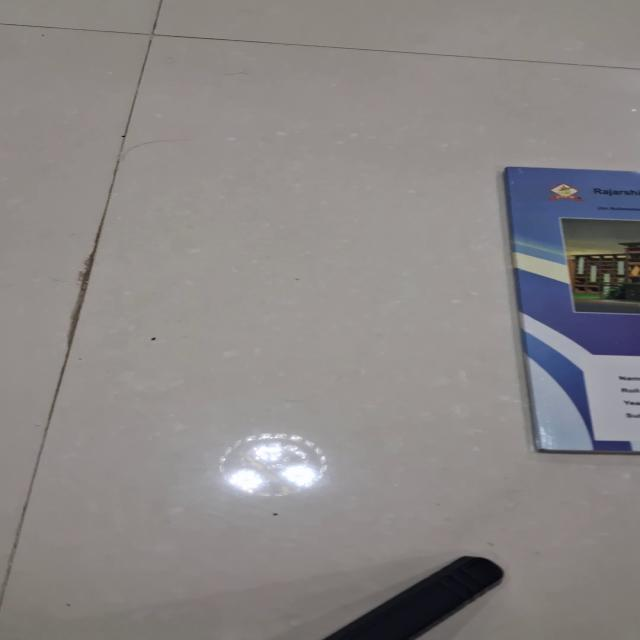paper: (503, 166, 639, 453)
